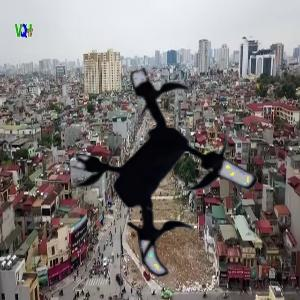drone: (64, 70, 276, 282)
